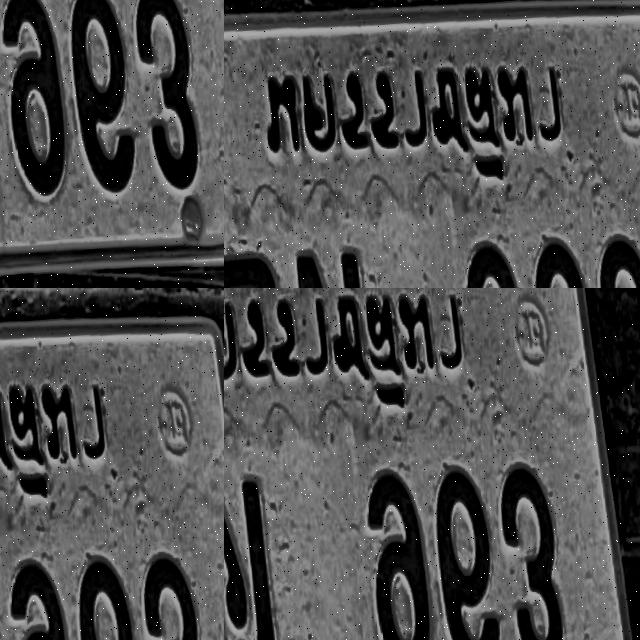license-plate: (224, 288, 640, 640), (124, 288, 224, 411)
